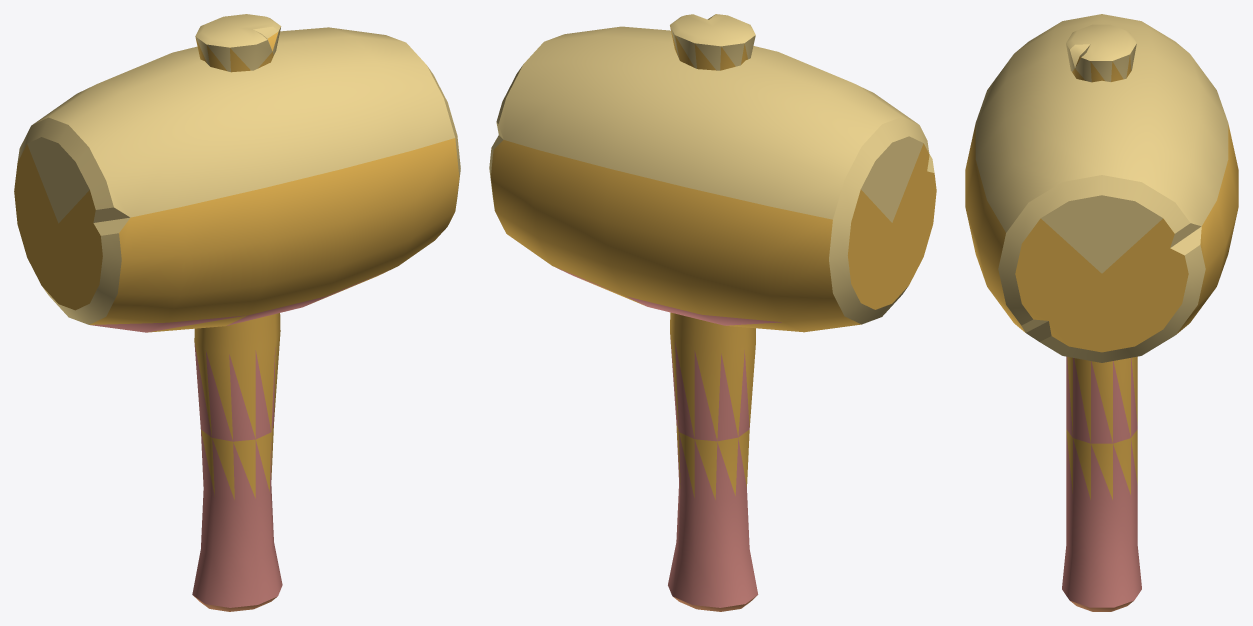
Rendered from itch_kaykit_rpg_tools_mallet.glb.
3 views of the same model, side by side, from view 1: azimuth 30°, elevation 25°; view 2: azimuth 150°, elevation 25°; view 3: azimuth 270°, elevation 25° (orthographic). The views are drawn at different scales.
Parts seen in each view (by area): view 1: mallet; view 2: mallet; view 3: mallet.
Part boxes in pixels (<box>): mallet: <box>14,14,460,611</box>; mallet: <box>489,14,936,611</box>; mallet: <box>965,14,1238,611</box>.
Bounding box in the file's own units: 1.18 × 1.81 × 0.7988.
